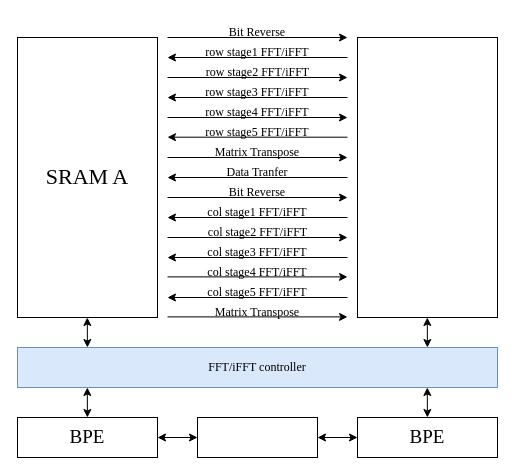
Image size: 515x475. Some labels were removed from this diagram. Here are the shapes that lost their labels. From the top down, the centre of each, then its label:
At (x=427, y=177): "SRAM B".
At (x=257, y=437): "MUL and ADD".
